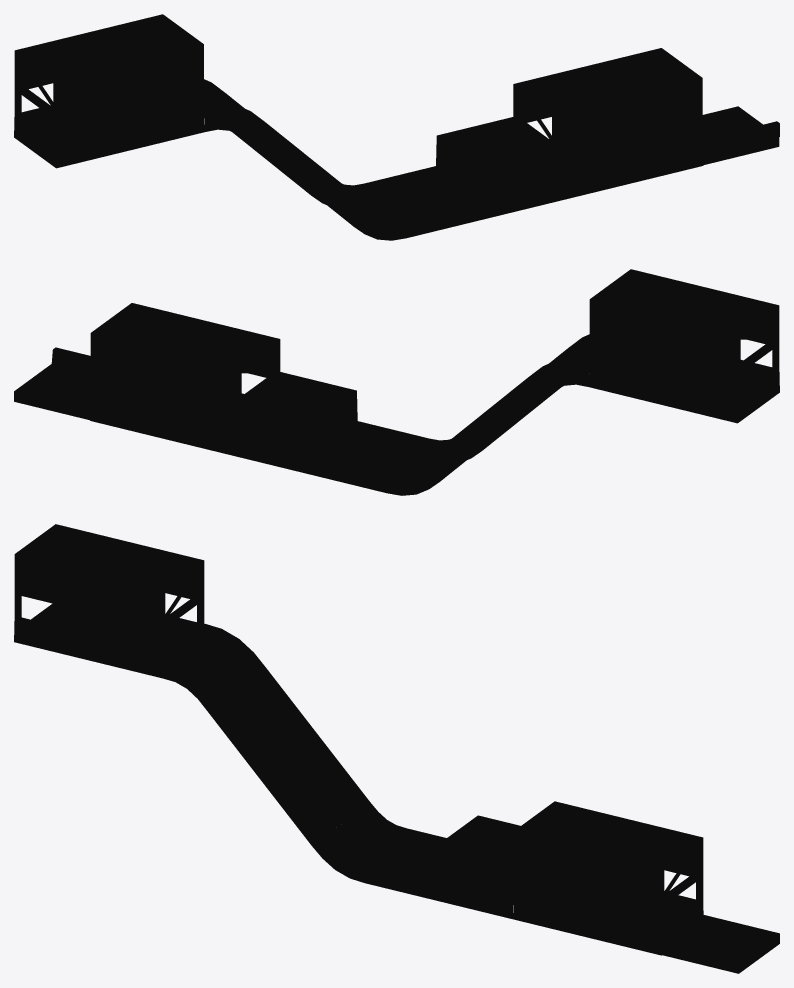
File: Chunk3.obj
3 renders of one model, top to bottom at view 1: azimuth 30°, elevation 25°; view 2: azimuth 150°, elevation 25°; view 3: azimuth 330°, elevation 25°, orthographic.
Bounding box in the file's own units: 914 × 293 × 92.5.
